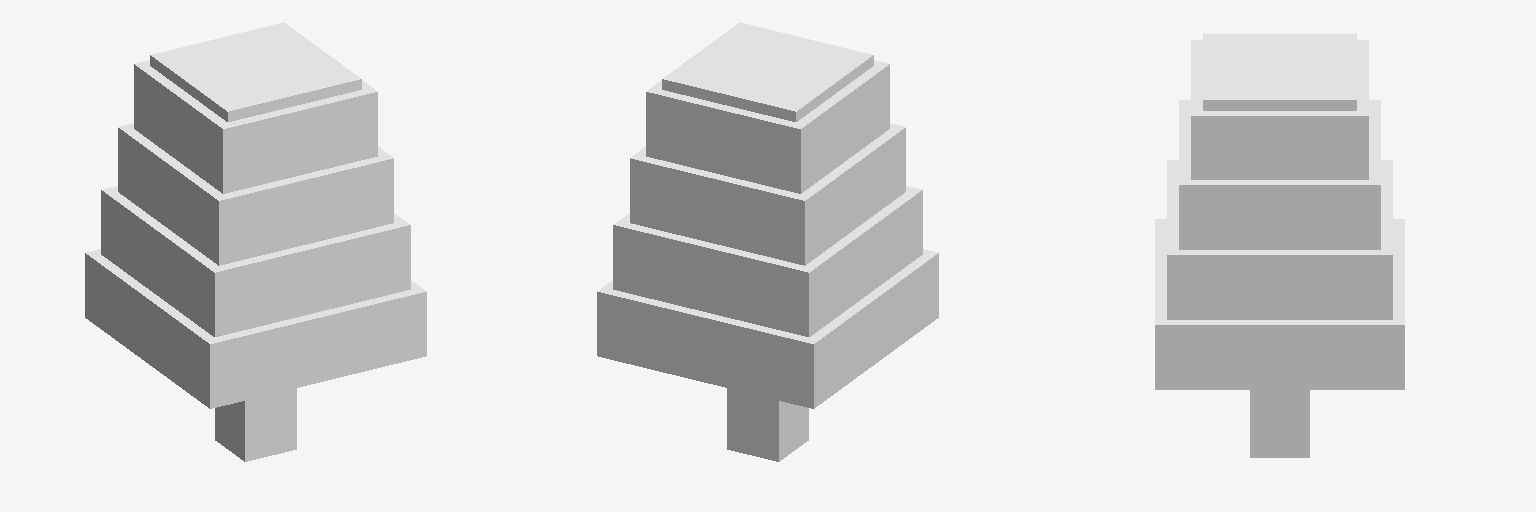
Rendered from Tree2.obj.
3 views of the same model, side by side, from view 1: azimuth 30°, elevation 25°; view 2: azimuth 150°, elevation 25°; view 3: azimuth 270°, elevation 25° (orthographic).
Size of the model in its own units: 21 by 35 by 21.